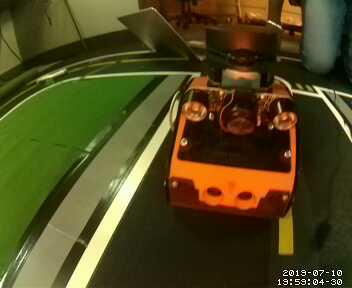pheeno: (165, 25, 298, 221)
